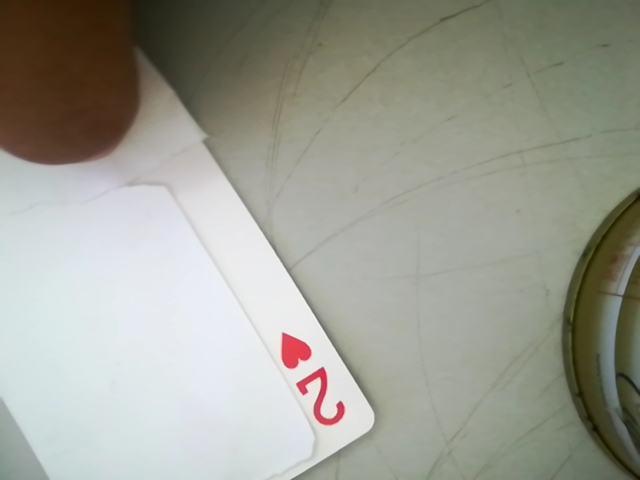hx 2: (268, 327, 356, 441)
